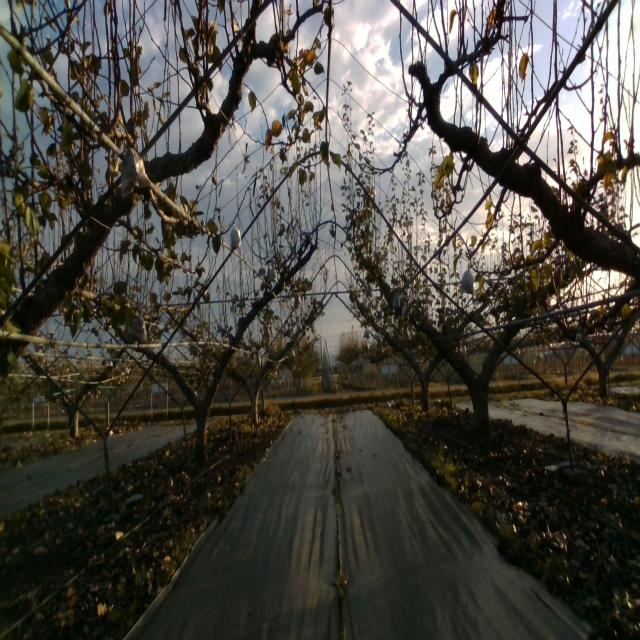pearbags: (120, 145, 153, 198), (460, 263, 474, 296), (229, 223, 242, 249), (267, 263, 279, 284)
